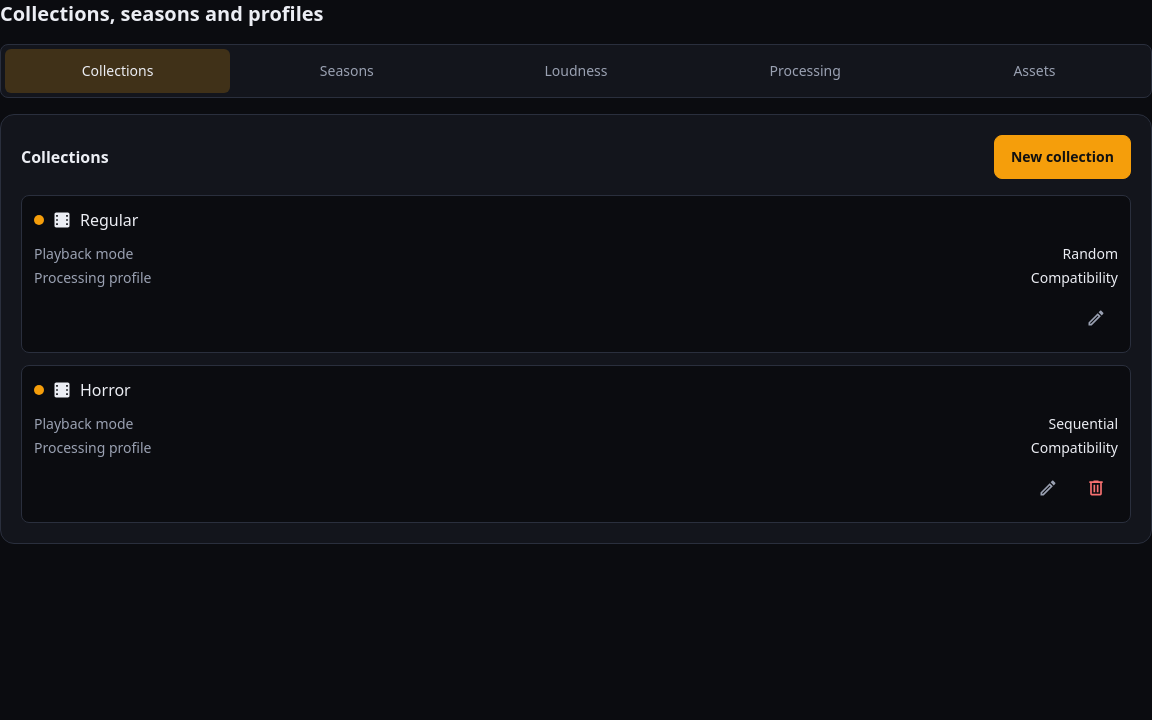
Scenario: lists loudness profiles and processing profiles in their own tabs
Click the tab with id "organize-tab-loudness". click: (576, 71)
box: left=463, top=49, right=689, bottom=93
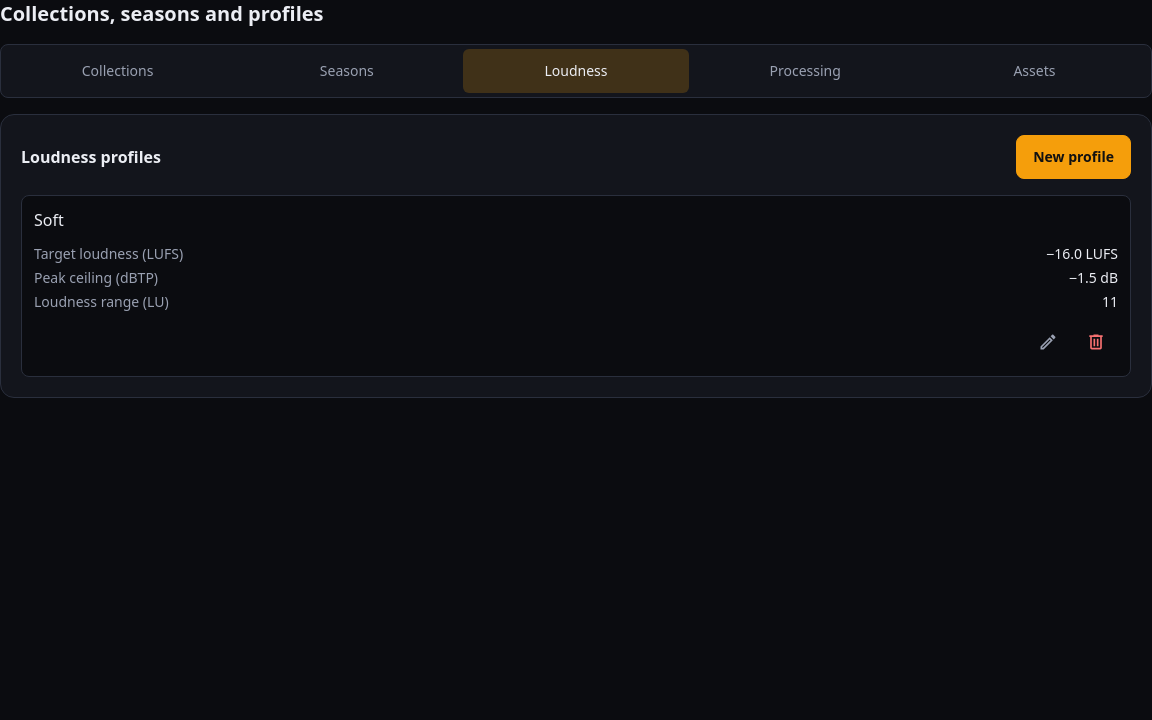
Now the panel with id "organize-loudness" shows "Soft", box left=34, top=209, right=64, bottom=231
Click the tab with id "organize-tab-processing". click: (805, 71)
box: left=693, top=49, right=918, bottom=93
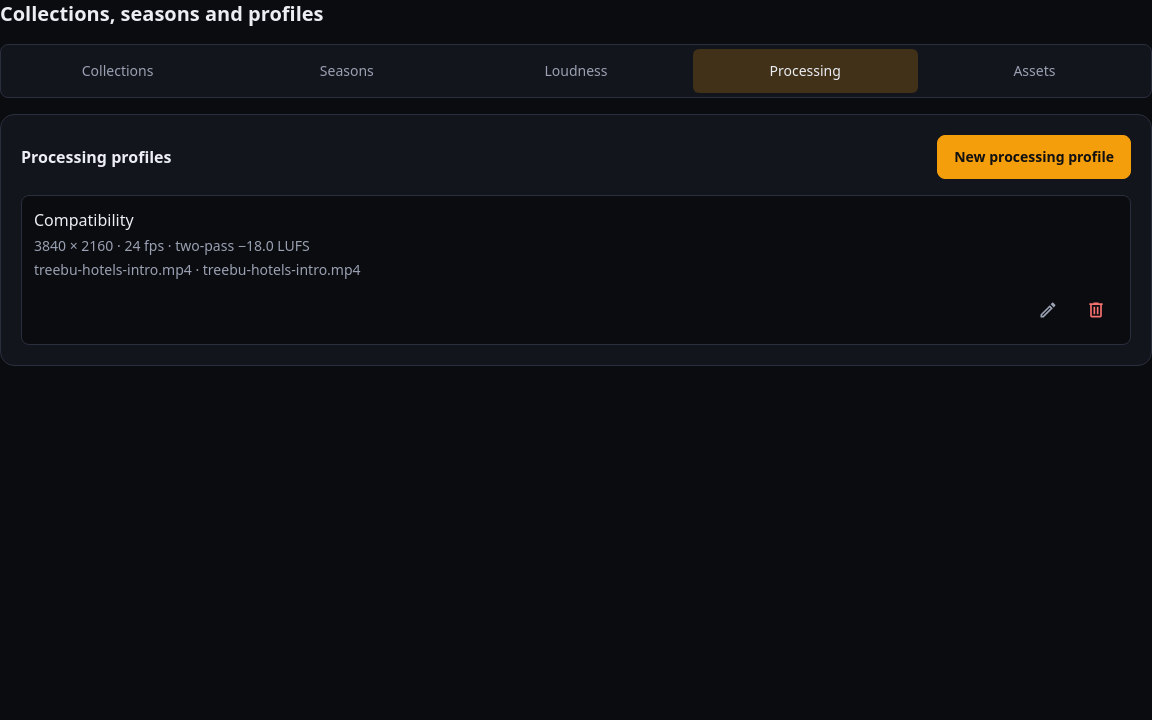
Now the panel with id "organize-processing" shows "Compatibility", box left=34, top=209, right=134, bottom=231
Now the panel with id "organize-processing" shows "3840 × 2160", box left=34, top=236, right=310, bottom=255
Click the button named "Edit Compatibility". click: (1048, 310)
box: left=1026, top=288, right=1070, bottom=332
(page scrolled)
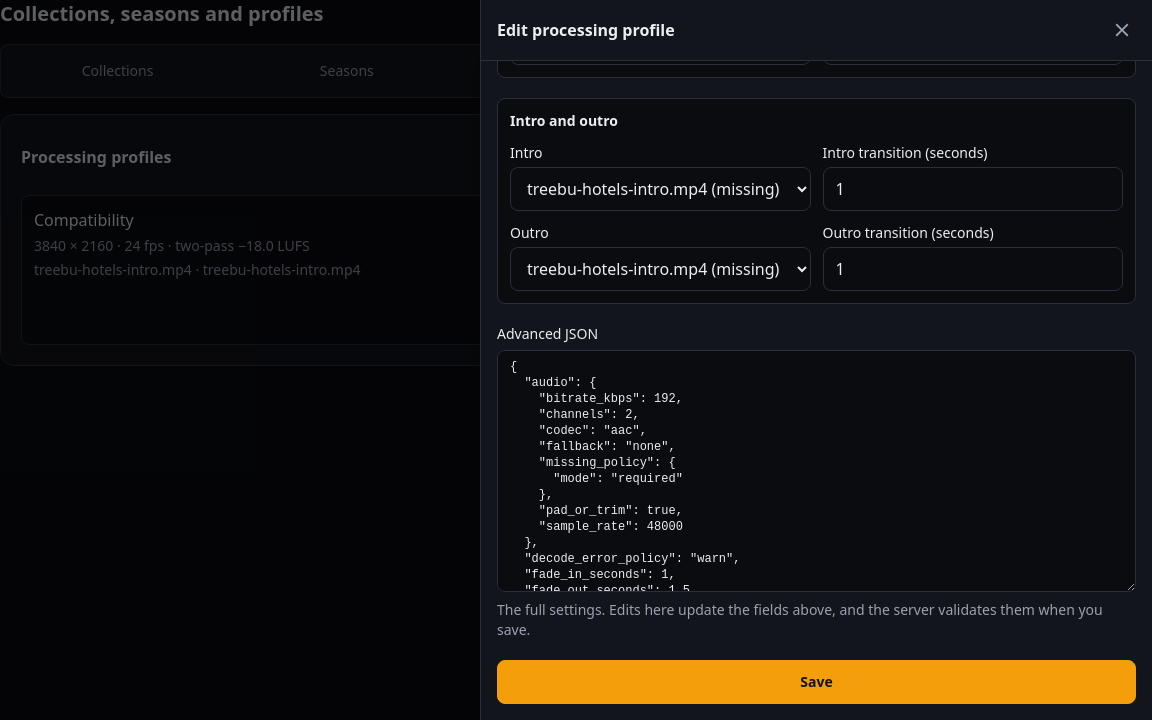
Now the text box with test id "json" is shown, box left=497, top=350, right=1136, bottom=592
